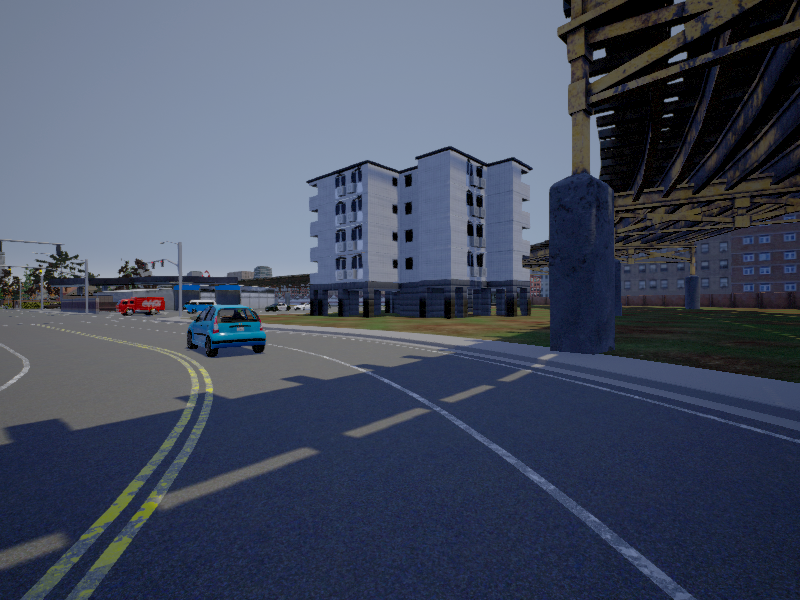Benign: (185, 304, 267, 357), (117, 297, 166, 316), (186, 299, 216, 315), (265, 301, 293, 314)
